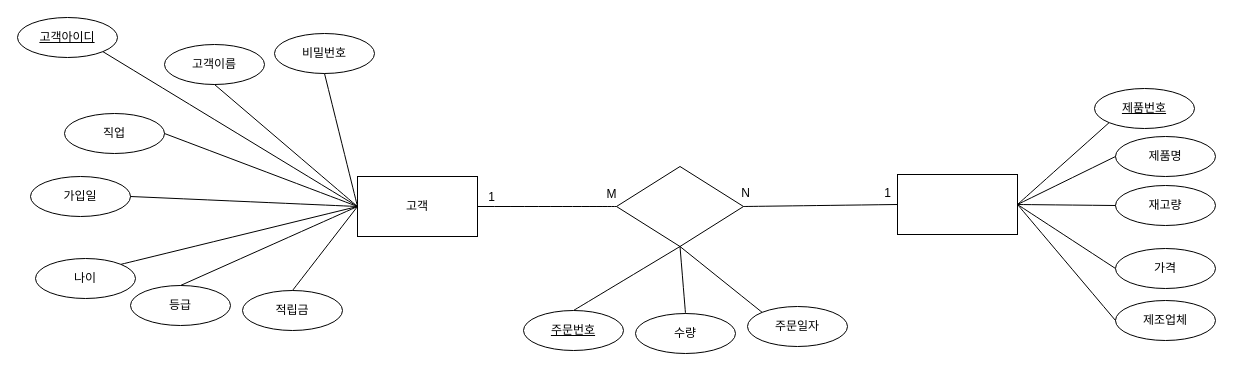
Some shapes in this 1233 by 371 pixel diagram are drawn without their labels. The shapes that lost their labels are listed below. From the top down, each one's centre as x and y in pixels, then its label:
At pixel 680 206: "주문".
At pixel 957 204: "제품".
